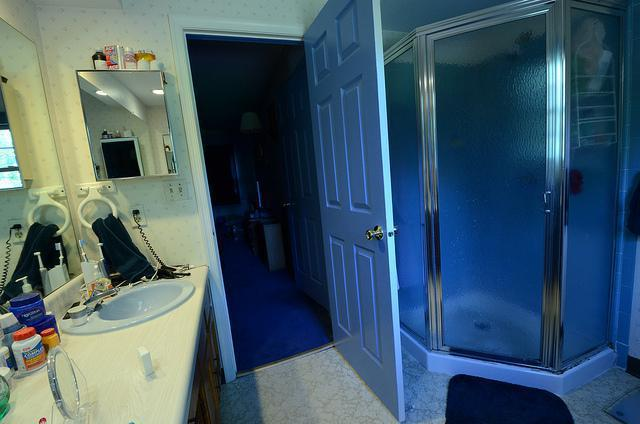Ducha: (349, 10, 622, 394)
Lavamanos: (60, 268, 194, 335)
